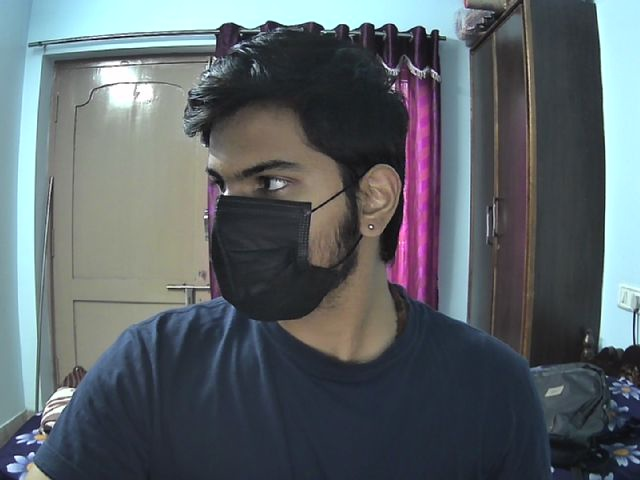Mask: (211, 197, 358, 320)
